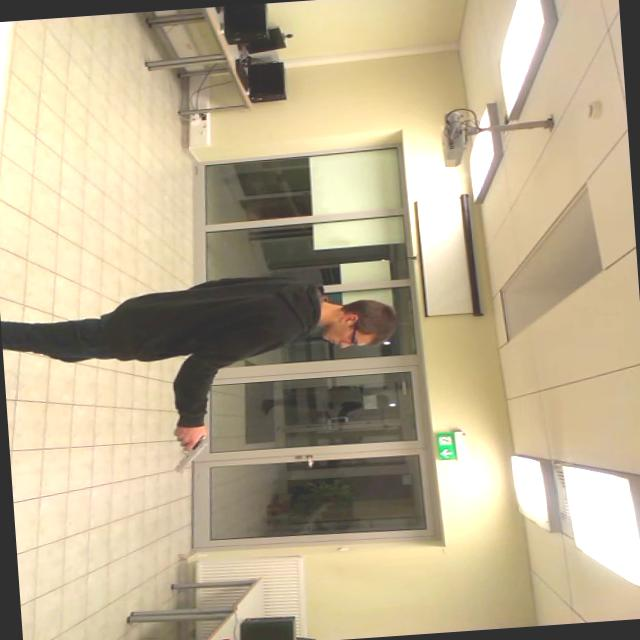handgun: (156, 426, 220, 478)
